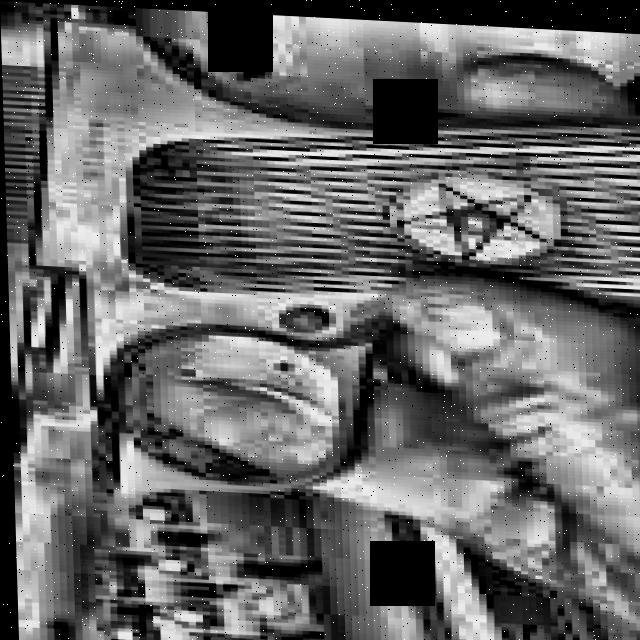Norinco: (0, 4, 640, 640)
